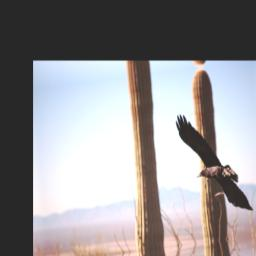Crow: (173, 104, 255, 222)
